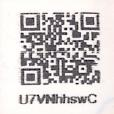QR-CODE: (17, 9, 104, 87)
